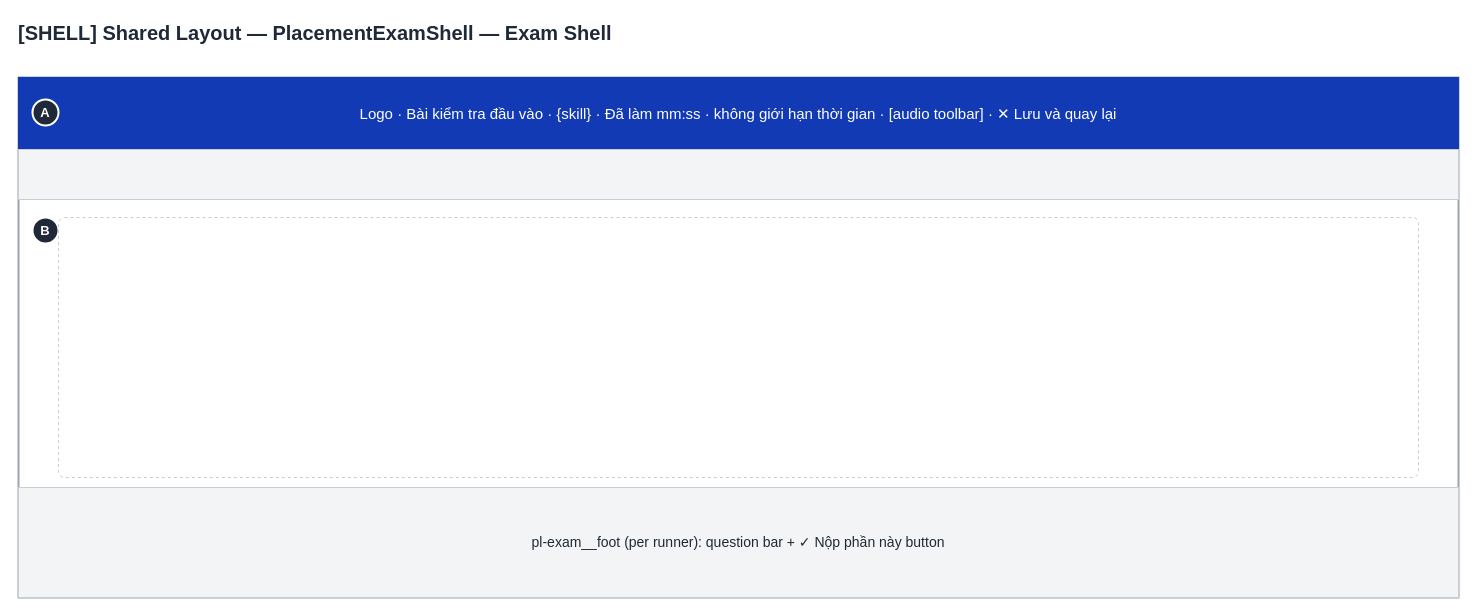
This 1476x615 diagram has some shape labels left out. The centre of each missing label's shape, as x and y in pixels:
Part N · section instructions: (738,174)
pl-exam__body — skill runner (Objective / Writing / Speaking): (738,347)
